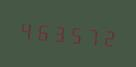five: (66, 19, 81, 48)
four: (17, 15, 32, 43)
seven: (82, 21, 97, 49)
six: (33, 17, 48, 45)
three: (50, 18, 65, 46)
two: (98, 22, 113, 50)
